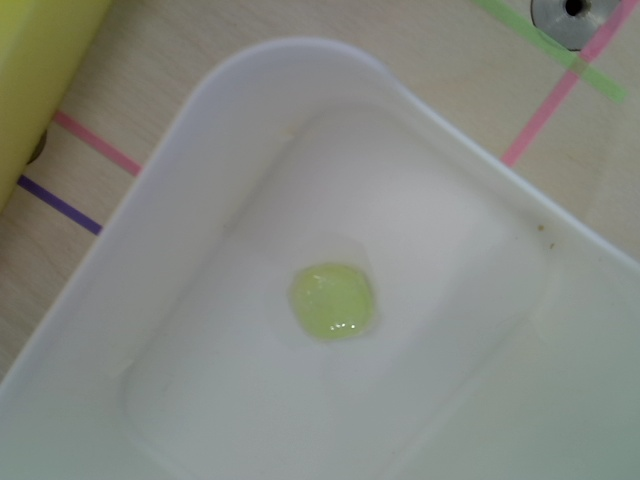씨앗: (287, 262, 374, 339)
